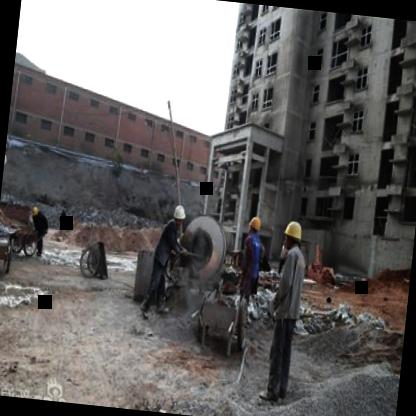helmet: (281, 217, 303, 255), (171, 203, 188, 231), (246, 216, 262, 237)
